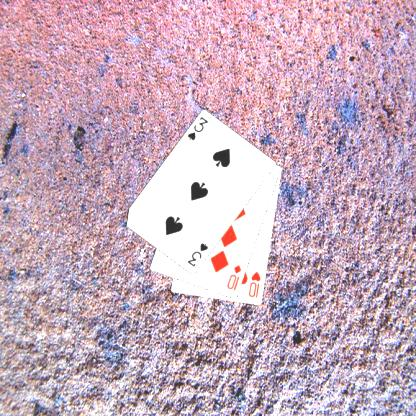10D: (224, 262, 243, 292)
10H: (246, 269, 262, 299)
3S: (184, 240, 209, 268), (184, 114, 209, 142)
